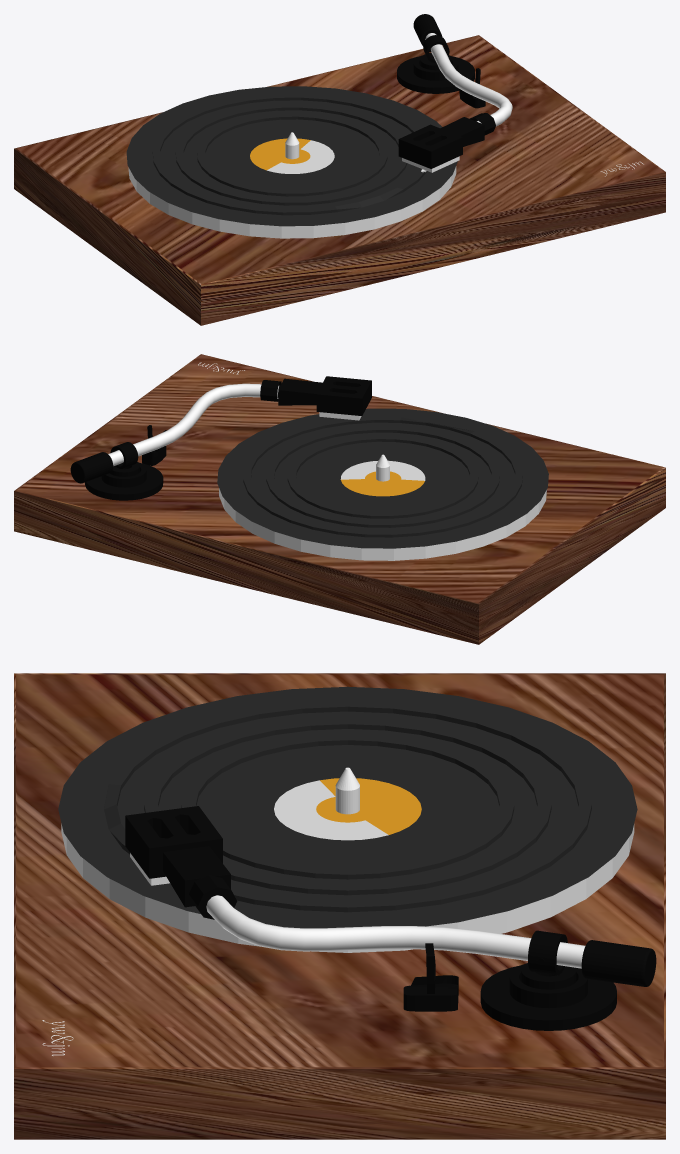
Rendered from turntable2.glb.
3 views of the same model, one above another, from view 1: azimuth 30°, elevation 25°; view 2: azimuth 150°, elevation 25°; view 3: azimuth 270°, elevation 25° (orthographic). The views are drawn at different scales.
Parts seen in each view (by area): view 1: Table, LP, Platter, Headshell, Anti-Skate, Tone Arm, Handler; view 2: Table, LP, Platter, Headshell, Tone Arm, Anti-Skate, Handler, Traking; view 3: Table, LP, Tone Arm, Platter, Headshell, Anti-Skate, Handler, Cube.002, Traking.
Boxes of the visible parts, x1=… form: Table: x1=14, y1=35, x2=665, y2=325; LP: x1=126, y1=86, x2=457, y2=226; Platter: x1=128, y1=132, x2=456, y2=238; Headshell: x1=398, y1=113, x2=495, y2=168; Anti-Skate: x1=397, y1=52, x2=474, y2=93; Tone Arm: x1=425, y1=33, x2=512, y2=126; Handler: x1=413, y1=14, x2=442, y2=45; Table: x1=14, y1=354, x2=665, y2=644; LP: x1=217, y1=408, x2=548, y2=548; Platter: x1=219, y1=454, x2=546, y2=560; Headshell: x1=260, y1=376, x2=371, y2=415; Tone Arm: x1=108, y1=383, x2=278, y2=465; Anti-Skate: x1=85, y1=462, x2=163, y2=500; Handler: x1=70, y1=452, x2=113, y2=483; Traking: x1=110, y1=442, x2=138, y2=468; Table: x1=14, y1=673, x2=665, y2=1139; LP: x1=58, y1=686, x2=637, y2=928; Tone Arm: x1=206, y1=895, x2=585, y2=968; Platter: x1=61, y1=767, x2=634, y2=952; Headshell: x1=125, y1=806, x2=237, y2=919; Anti-Skate: x1=480, y1=963, x2=616, y2=1030; Handler: x1=581, y1=940, x2=656, y2=986; Cube.002: x1=403, y1=943, x2=458, y2=1011; Traking: x1=528, y1=930, x2=567, y2=975.
Size of the model in its own units: 2.7 by 0.4821 by 1.88.
Materials: 8 (1 with a texture image).
